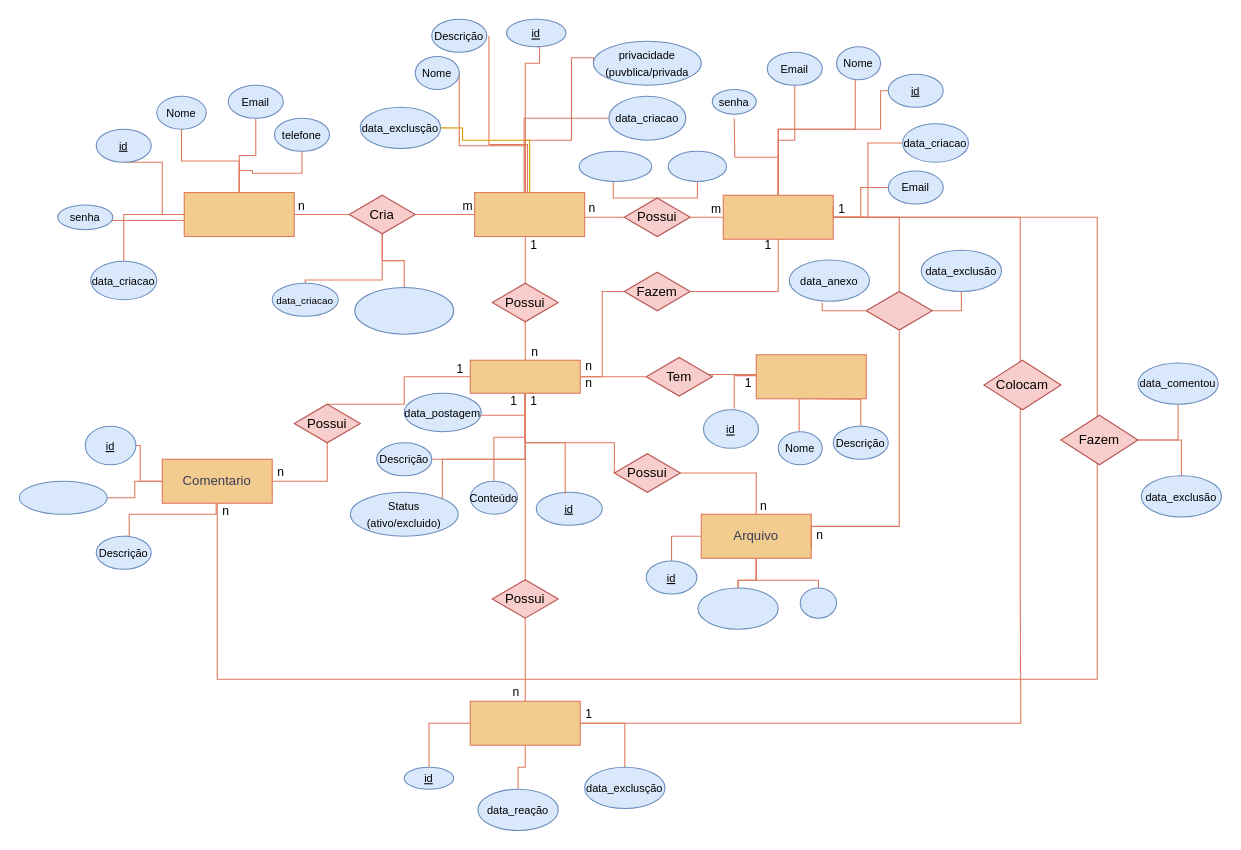
This 1241x850 diagram has some shape labels left out. The shapes that lost their labels are listed below. From the top down, each one's centre as x and y in pixels, then its label:
At point (615, 166): "data_entrada".
At point (697, 166): "data_saída".
At point (238, 214): "Administrador".
At point (529, 214): "Comunidade".
At point (777, 216): "Membro".
At point (404, 310): "data_encerramento".
At point (898, 310): "Anexam".
At point (524, 376): "Post".
At point (810, 376): "Materia".
At point (62, 497): "Quem_comentou".
At point (737, 608): "Nome_arquivo".
At point (818, 602): "url".
At point (524, 722): "Reação".
